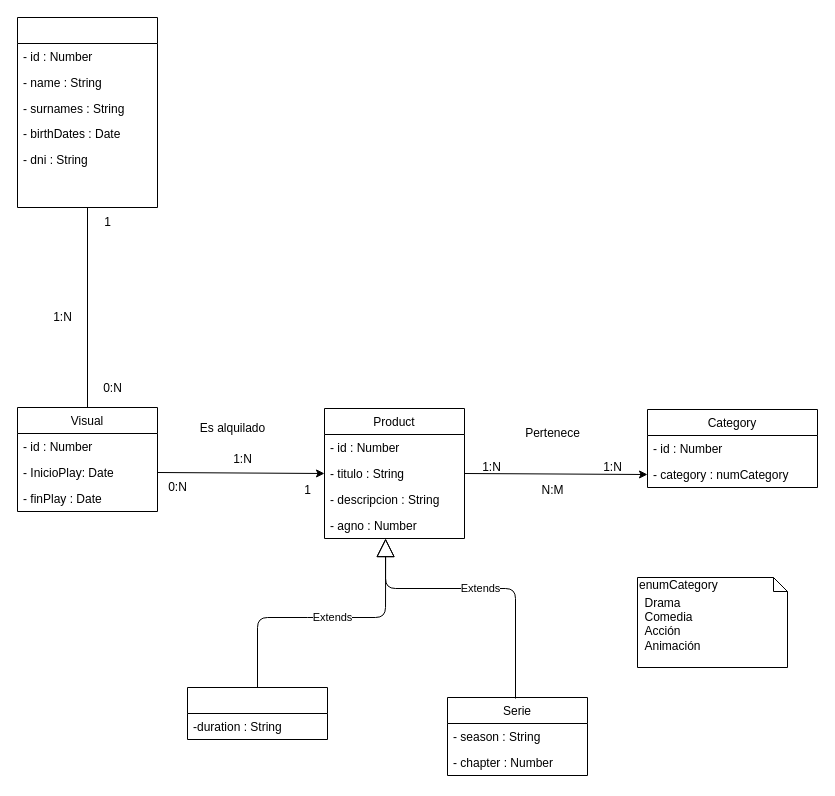
This 835x796 diagram has some shape labels left out. The shapes that lost their labels are listed below. From the top down, each one's box as (x1, y1, x2, y2) in pixels, then its label:
(16, 16, 158, 208): Customer
(186, 686, 328, 740): Pelicula
